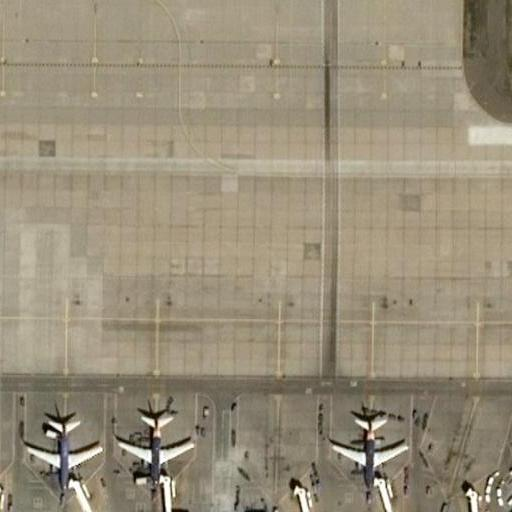Aircraft: (17, 396, 104, 498), (117, 399, 204, 498), (325, 401, 410, 488)
